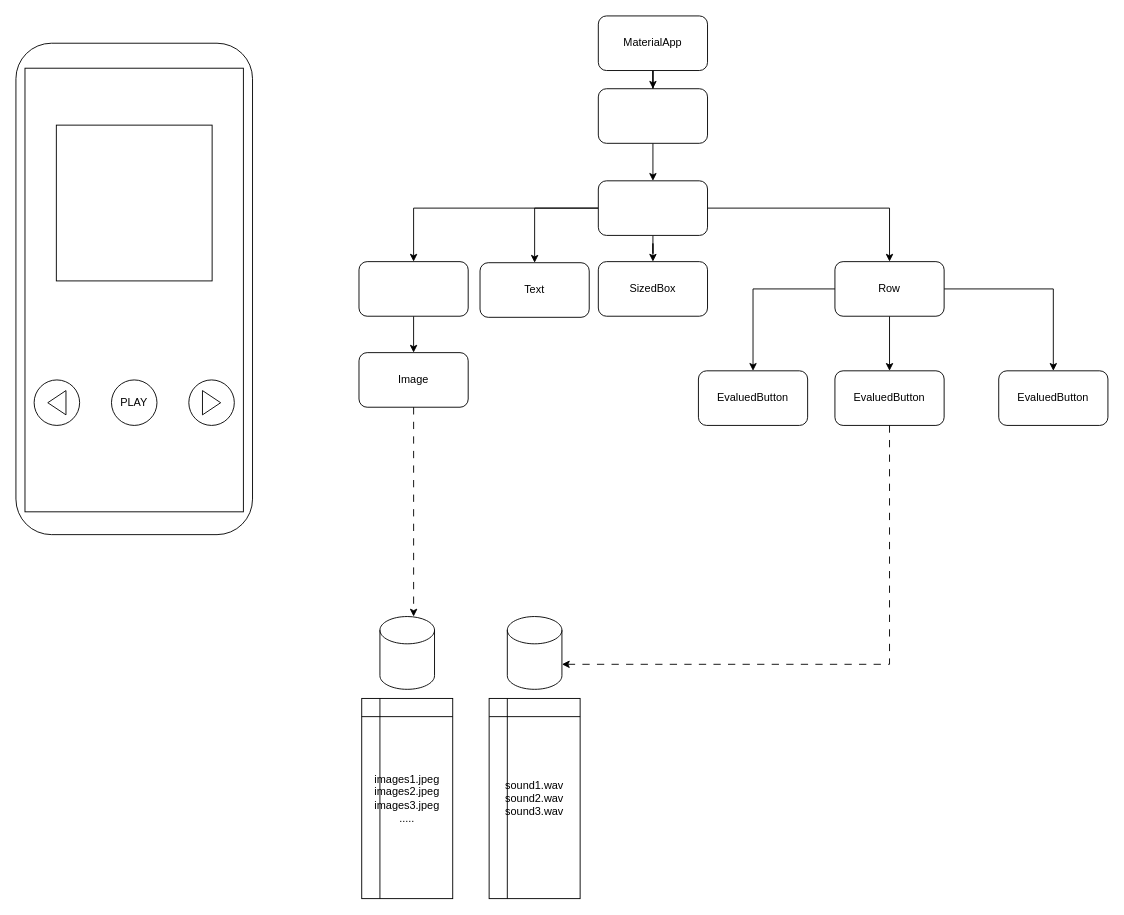
The diagram is 1124 pixels wide and 915 high, and some of its shapes have lost their labels. Here are the shapes that lost their labels. From the top down, the centre of each, then its label:
(x=652, y=115): home:SafeArea
(x=652, y=207): Column
(x=413, y=288): Container padding
(x=407, y=652): Images
(x=534, y=652): Sounds
